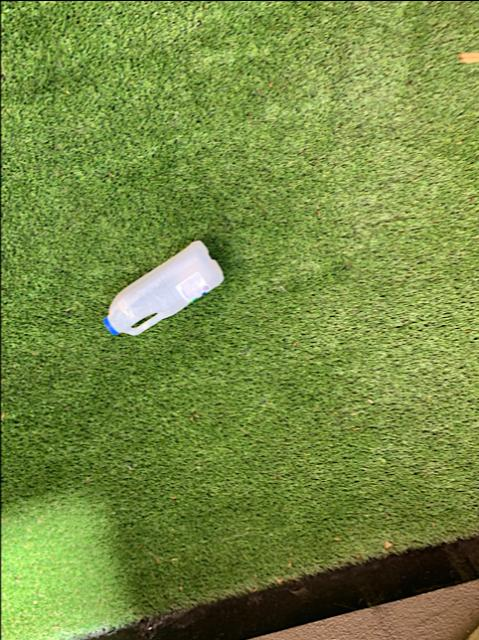plastic: (101, 241, 221, 335)
